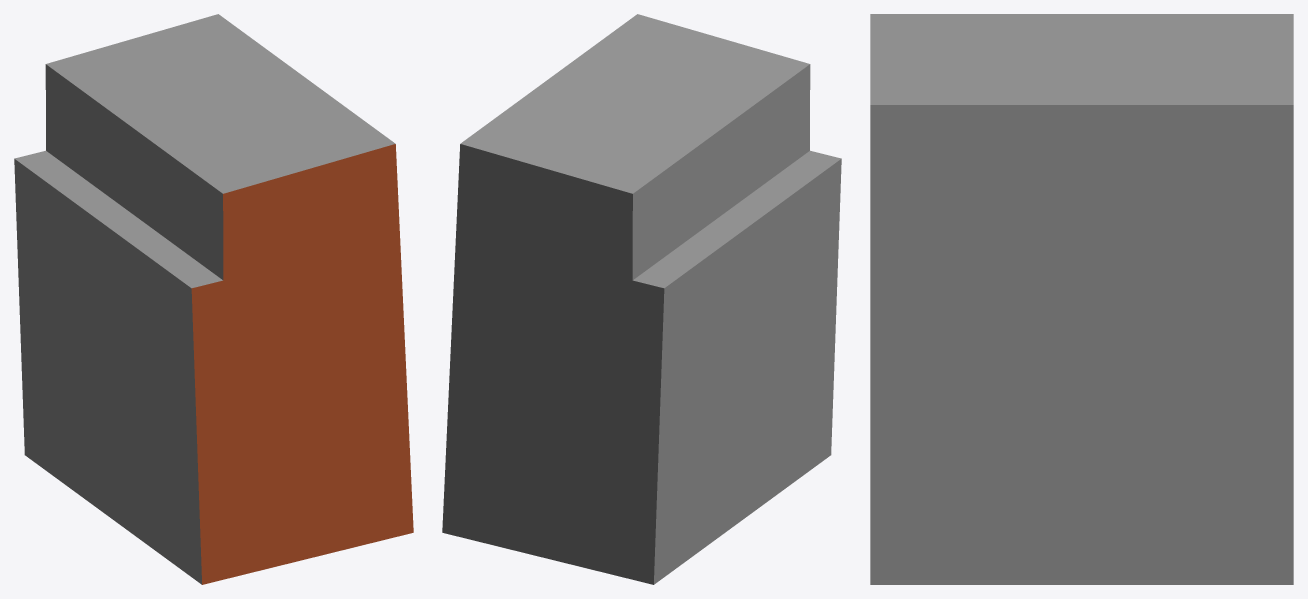
Rendered from construction_4781_assumed_A_Casa_h6m.obj.
3 renders of one model, left to right at view 1: azimuth 30°, elevation 25°; view 2: azimuth 150°, elevation 25°; view 3: azimuth 270°, elevation 25°, orthographic. The views are drawn at different scales.
Parts seen in each view (by area): view 1: construction_4781_assumed_A_Casa; view 2: construction_4781_assumed_A_Casa; view 3: construction_4781_assumed_A_Casa.
Boxes of the visible parts, left/top/right/bottom form: construction_4781_assumed_A_Casa: left=14, top=14, right=413, bottom=584; construction_4781_assumed_A_Casa: left=442, top=14, right=841, bottom=584; construction_4781_assumed_A_Casa: left=870, top=14, right=1293, bottom=584.
Size of the model in its own units: 4.34 by 7.35 by 6.
